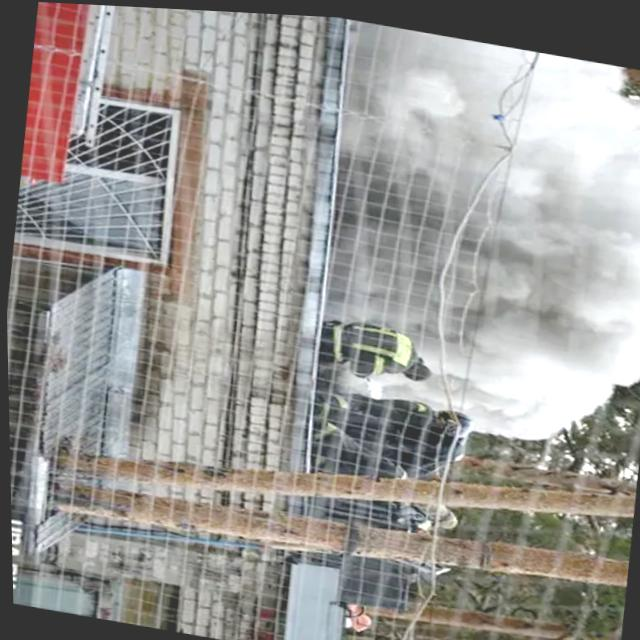no_helmet: (301, 13, 640, 454)
